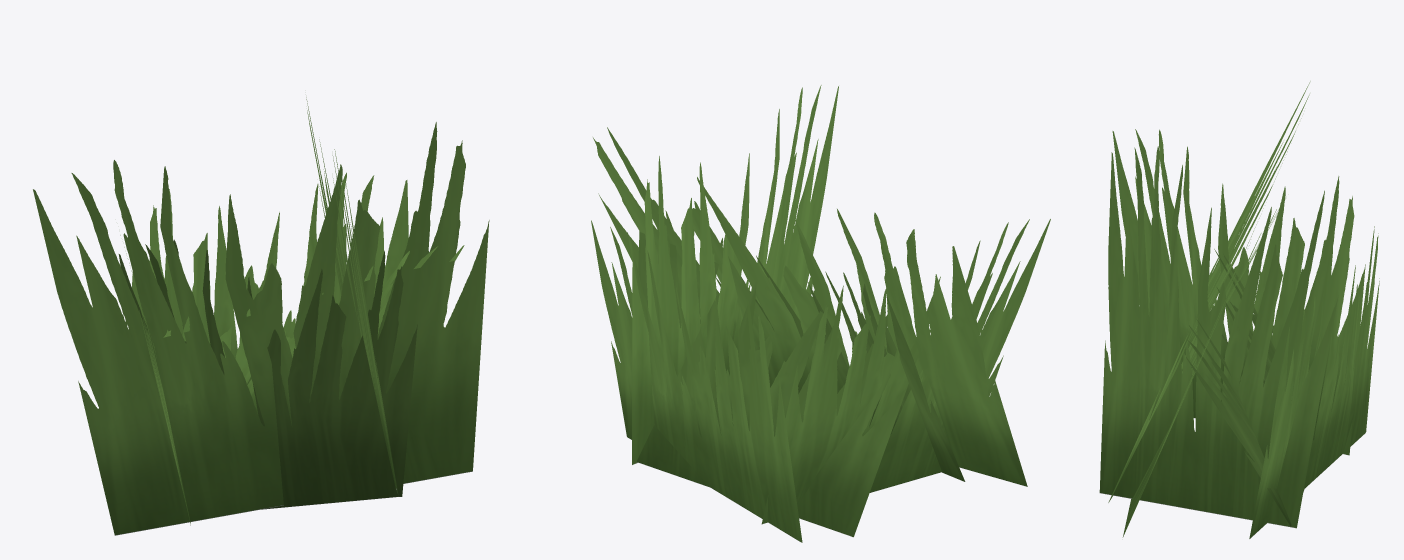
Rendered from veg_Grass_V2.fbx.
The picture shows the model from 3 angles, left to right: view 1: azimuth 30°, elevation 25°; view 2: azimuth 150°, elevation 25°; view 3: azimuth 270°, elevation 25°; orthographic projection. The views are drawn at different scales.
Parts seen in each view (by area): view 1: veg_Grass_V2; view 2: veg_Grass_V2; view 3: veg_Grass_V2.
Boxes of the visible parts, left/top/right/bottom form: veg_Grass_V2: left=33, top=97, right=489, bottom=535; veg_Grass_V2: left=591, top=85, right=1050, bottom=542; veg_Grass_V2: left=1099, top=81, right=1379, bottom=538.
Size of the model in its own units: 98.84 by 84.8 by 55.76.
